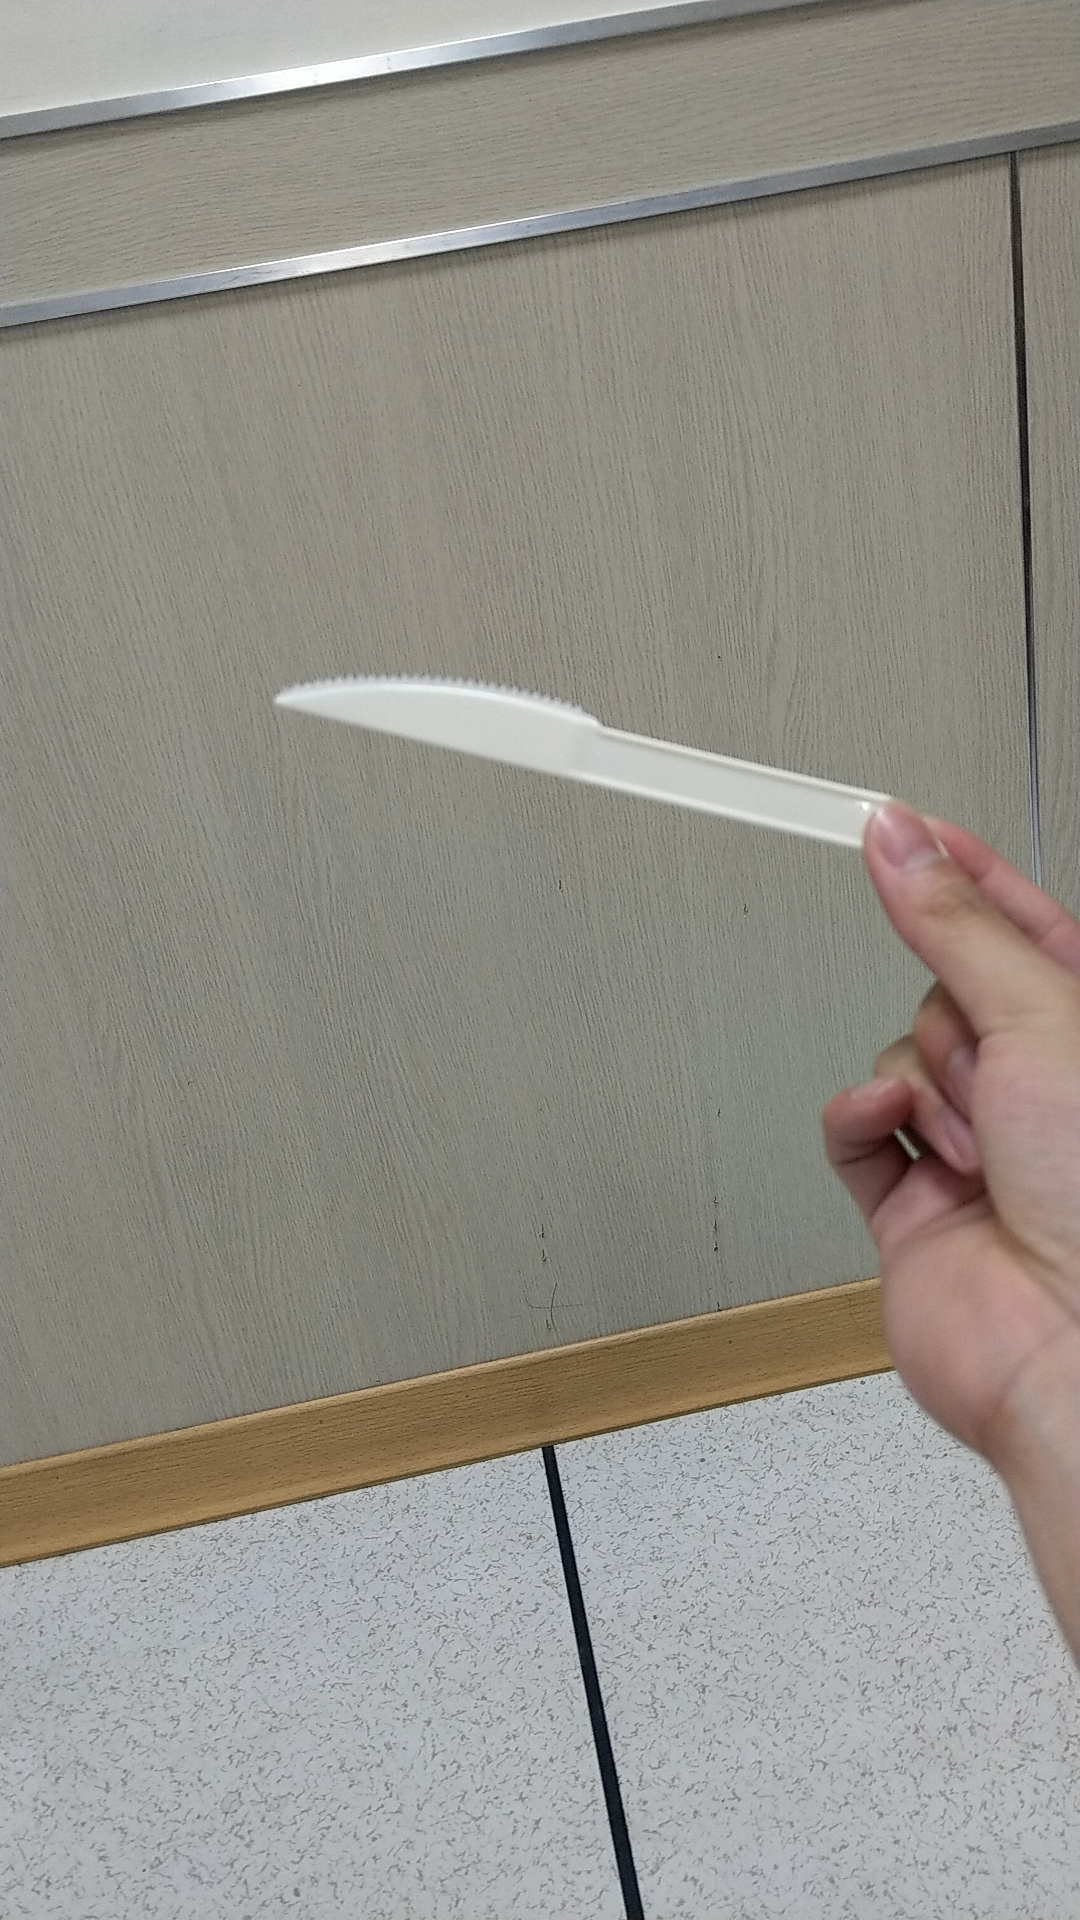knife: (272, 625, 893, 872)
